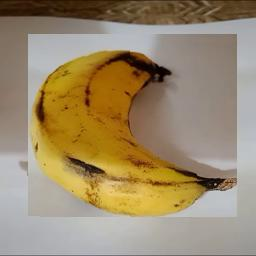Banana Semifresh: (28, 35, 237, 218)
